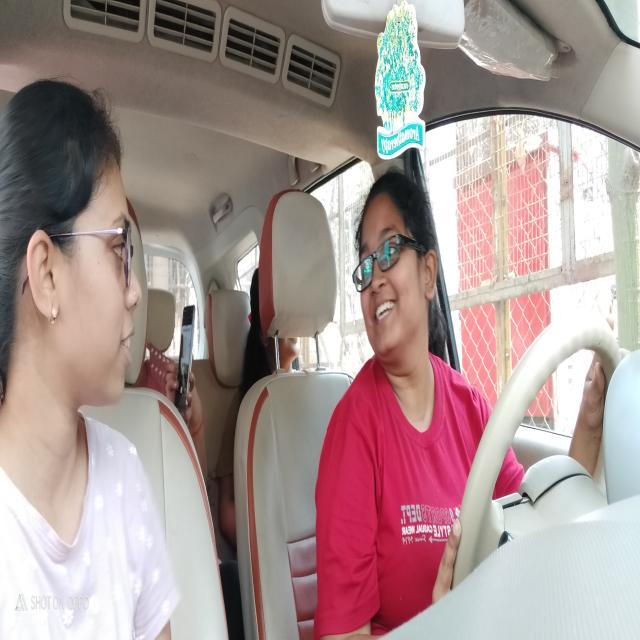LeftRight: (351, 166, 441, 368)
person: (1, 66, 144, 414), (271, 337, 308, 370)
talking: (118, 326, 140, 372), (369, 296, 401, 325)
